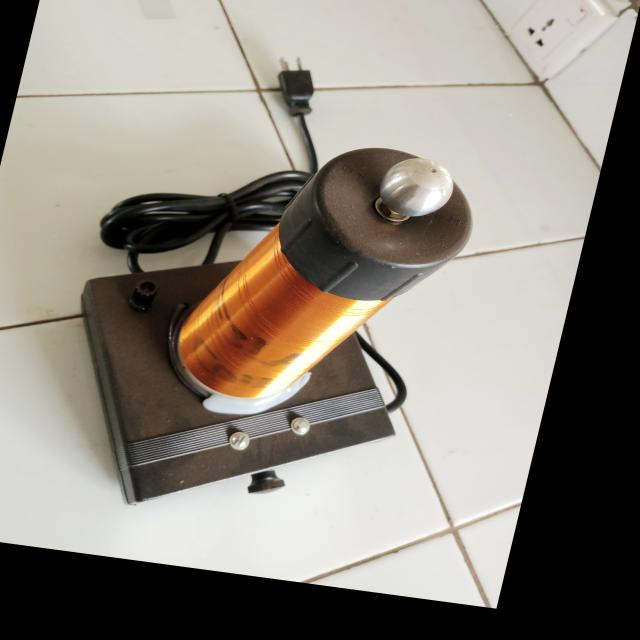Tesla Coil: (14, 105, 504, 539)
